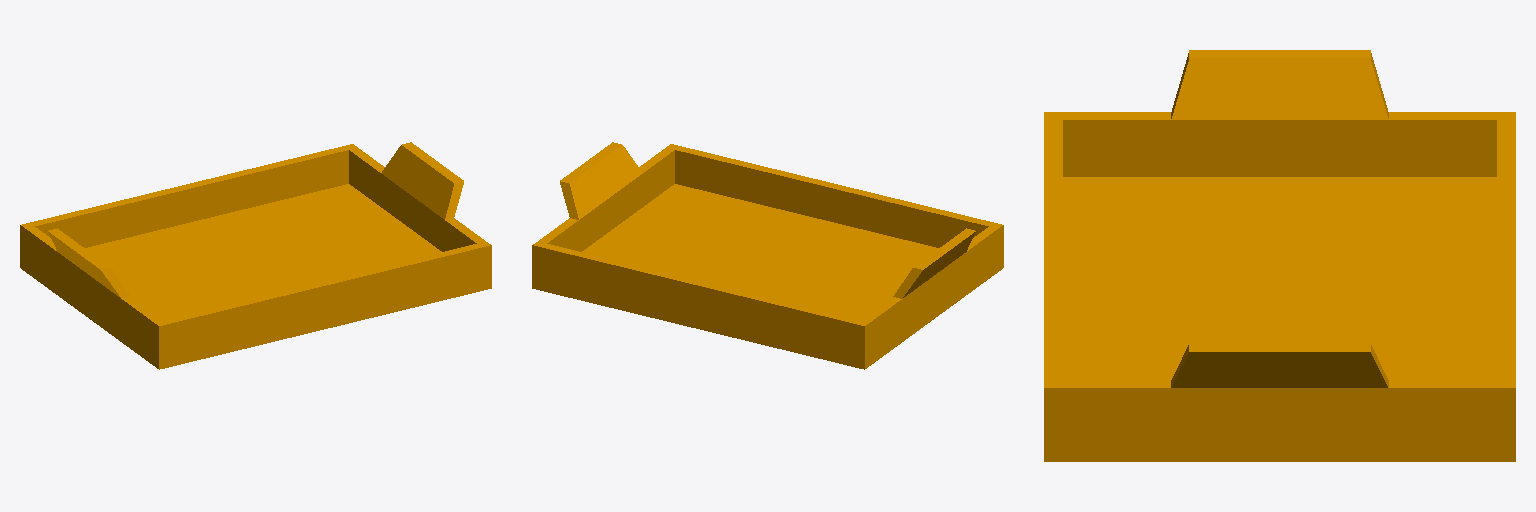
The robot description file, URDF, robot "tray_model":
<robot name="tray_model">
  <link name="tray">
    <inertial>
      <mass value="0.500000" />
      <origin xyz="0.000000 -0.000000 0.014284"/>
      <inertia ixx="0.003664" ixy="0.000000" ixz="0.000000" iyy="0.007244" iyz="0.000000" izz="0.010661" />
    </inertial>
    <visual>
      <geometry>
        <mesh filename="package://manipulation_objects/meshes/tray.stl" />
      </geometry>
    </visual>
    <collision>
      <geometry>
        <mesh filename="package://manipulation_objects/meshes/tray.stl" />
      </geometry>
    </collision>
  </link>
  <gazebo reference="tray">
    <material>Gazebo/Grey</material>
  </gazebo>
</robot>

--- Facts derived from the render (not from the file) ---
The picture shows the robot from 3 angles, left to right: view 1: azimuth 30°, elevation 25°; view 2: azimuth 150°, elevation 25°; view 3: azimuth 270°, elevation 25°; orthographic projection.
Robot: tray_model — 1 links, 0 joints (none); root link tray; default pose: every joint at zero.
Links seen in each view (by area): view 1: tray; view 2: tray; view 3: tray.
Link boxes in pixels (x1,y1,x2,y2): tray: (20, 142, 491, 369); tray: (532, 142, 1003, 369); tray: (1044, 50, 1515, 461).
Bounding box of the posed robot: 0.394 × 0.26 × 0.075 m (x, y, z).
Meshes: 1 distinct files referenced, 1 mesh visuals loaded (1 binary STL).
